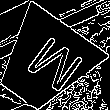M_SW: (10, 28, 79, 96)
